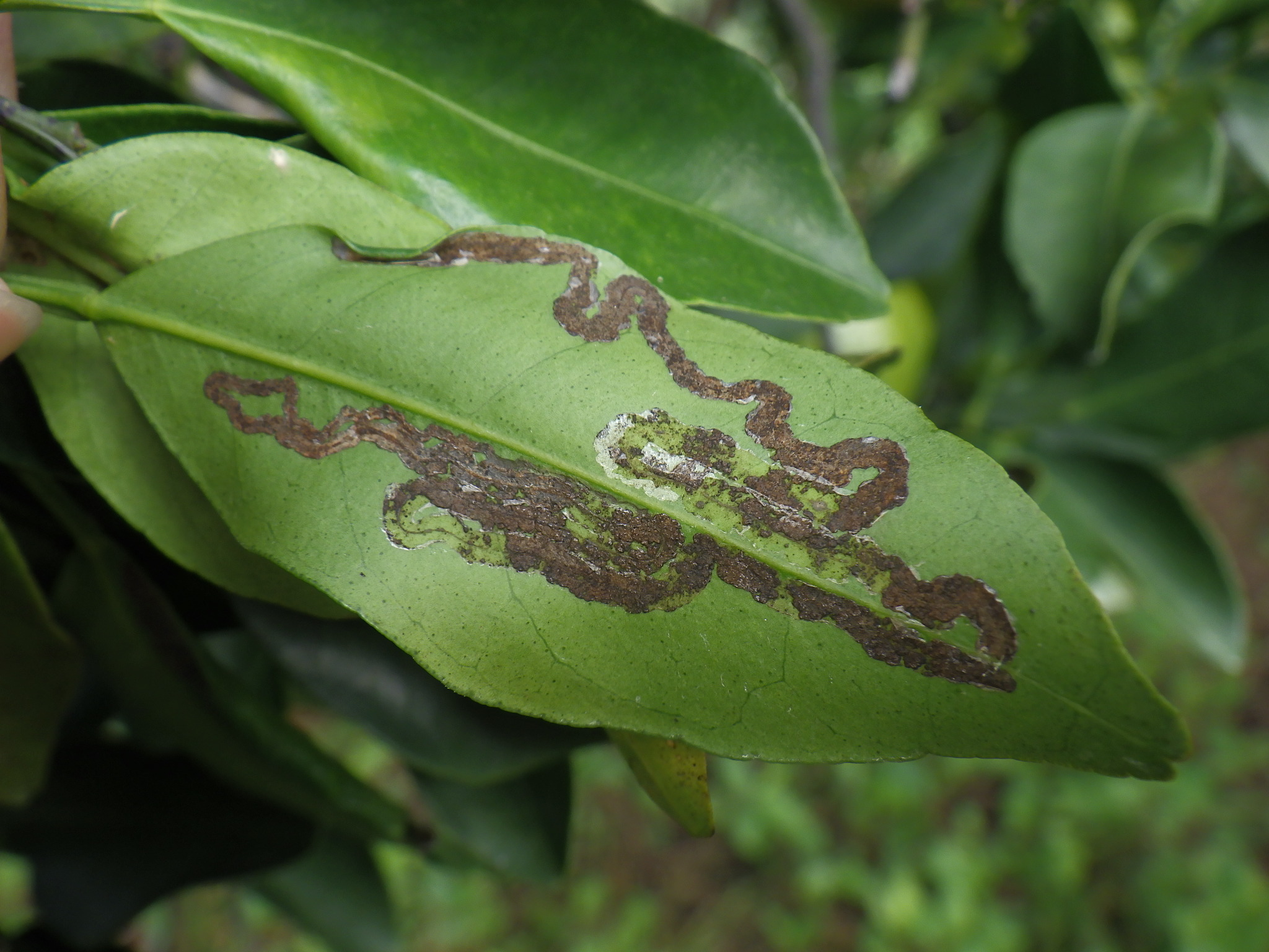Citrus_Leaf_Miner: (423, 232, 1016, 663), (208, 373, 786, 613), (786, 583, 1012, 689)
